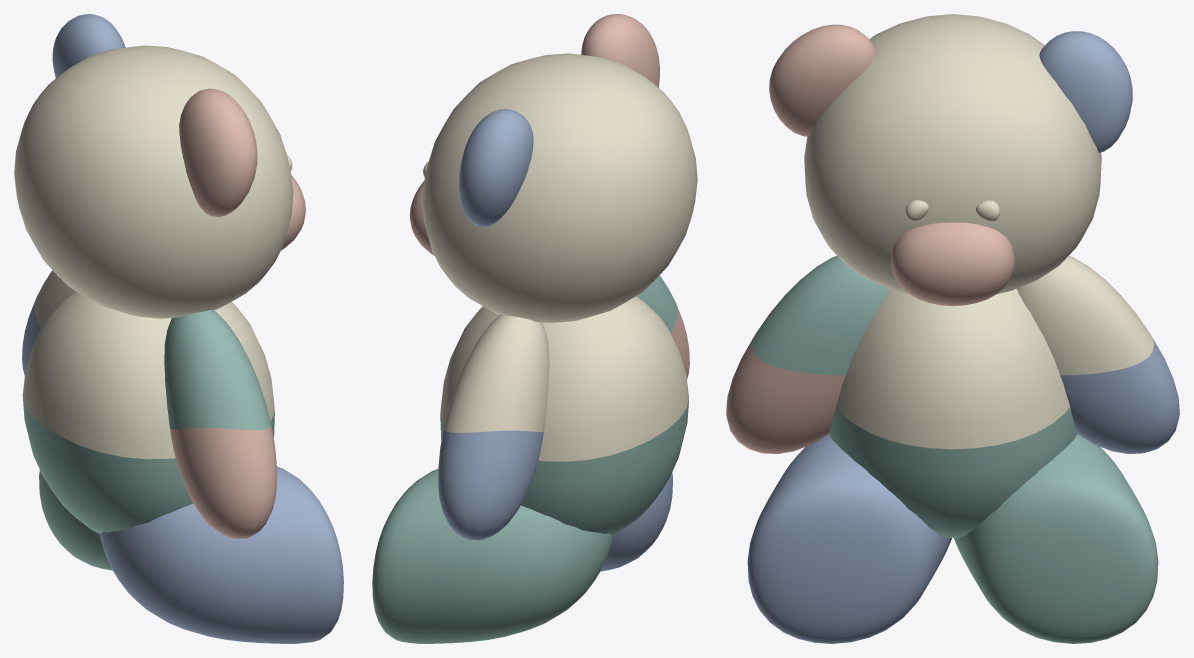
File: bones-teddy.glb
The picture shows the model from 3 angles, left to right: view 1: azimuth 30°, elevation 25°; view 2: azimuth 150°, elevation 25°; view 3: azimuth 270°, elevation 25°; orthographic projection. The views are drawn at different scales.
Visible parts, largest first — view 1: Head__static, Legs_Baked_L_static, Body_Baked_static, Body_Baked.001_static, Hands_Baked_L_static, Hands_Baked.0_L_static, Ear L_Baked_static, Ear R_Baked_static, Legs_Baked_R_static, Hands_Baked_R_static, Mouth_Baked_static, Hands_Baked.0_R_static; view 2: Head__static, Legs_Baked_R_static, Body_Baked_static, Body_Baked.001_static, Hands_Baked_R_static, Hands_Baked.0_R_static, Ear R_Baked_static, Ear L_Baked_static, Legs_Baked_L_static, Hands_Baked_L_static, Mouth_Baked_static, Hands_Baked.0_L_static; view 3: Head__static, Body_Baked_static, Legs_Baked_L_static, Legs_Baked_R_static, Body_Baked.001_static, Hands_Baked_L_static, Hands_Baked_R_static, Hands_Baked.0_R_static, Hands_Baked.0_L_static, Mouth_Baked_static, Ear L_Baked_static, Ear R_Baked_static.
Part boxes in pixels (box(x1,y1,x2,y2)): Head__static: box(14, 45, 293, 318); Legs_Baked_L_static: box(99, 466, 343, 643); Body_Baked_static: box(22, 291, 274, 459); Body_Baked.001_static: box(23, 397, 274, 533); Hands_Baked_L_static: box(164, 310, 271, 430); Hands_Baked.0_L_static: box(170, 425, 276, 538); Ear L_Baked_static: box(179, 88, 257, 216); Ear R_Baked_static: box(52, 14, 125, 77); Legs_Baked_R_static: box(39, 470, 112, 570); Hands_Baked_R_static: box(34, 270, 75, 328); Mouth_Baked_static: box(281, 175, 305, 250); Hands_Baked.0_R_static: box(22, 302, 41, 375); Head__static: box(422, 53, 697, 322); Legs_Baked_R_static: box(372, 469, 613, 643); Body_Baked_static: box(440, 296, 688, 461); Body_Baked.001_static: box(440, 400, 688, 535); Hands_Baked_R_static: box(444, 314, 549, 432); Hands_Baked.0_R_static: box(438, 428, 543, 539); Ear R_Baked_static: box(459, 109, 533, 226); Ear L_Baked_static: box(581, 14, 659, 87); Legs_Baked_L_static: box(600, 472, 672, 571); Hands_Baked_L_static: box(636, 275, 677, 332); Mouth_Baked_static: box(409, 181, 434, 255); Hands_Baked.0_L_static: box(670, 308, 689, 379); Head__static: box(804, 14, 1101, 293); Body_Baked_static: box(835, 289, 1070, 449); Legs_Baked_L_static: box(747, 434, 951, 643); Legs_Baked_R_static: box(954, 434, 1158, 643); Body_Baked.001_static: box(828, 407, 1077, 537); Hands_Baked_L_static: box(751, 256, 888, 375); Hands_Baked_R_static: box(1017, 256, 1154, 375); Hands_Baked.0_R_static: box(1060, 339, 1179, 453); Hands_Baked.0_L_static: box(726, 339, 845, 453); Mouth_Baked_static: box(891, 222, 1014, 306); Ear L_Baked_static: box(769, 24, 876, 136); Ear R_Baked_static: box(1039, 31, 1132, 152).
Size of the model in its own units: 1.16 by 2.4 by 1.71.
